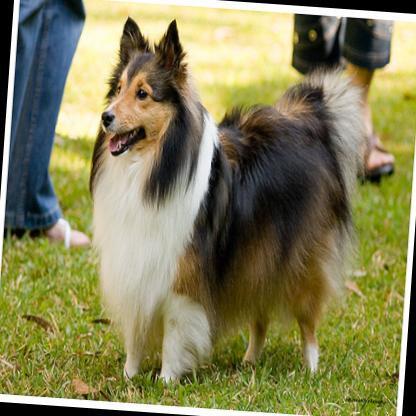Shetland_sheepdog: (70, 10, 376, 396)
